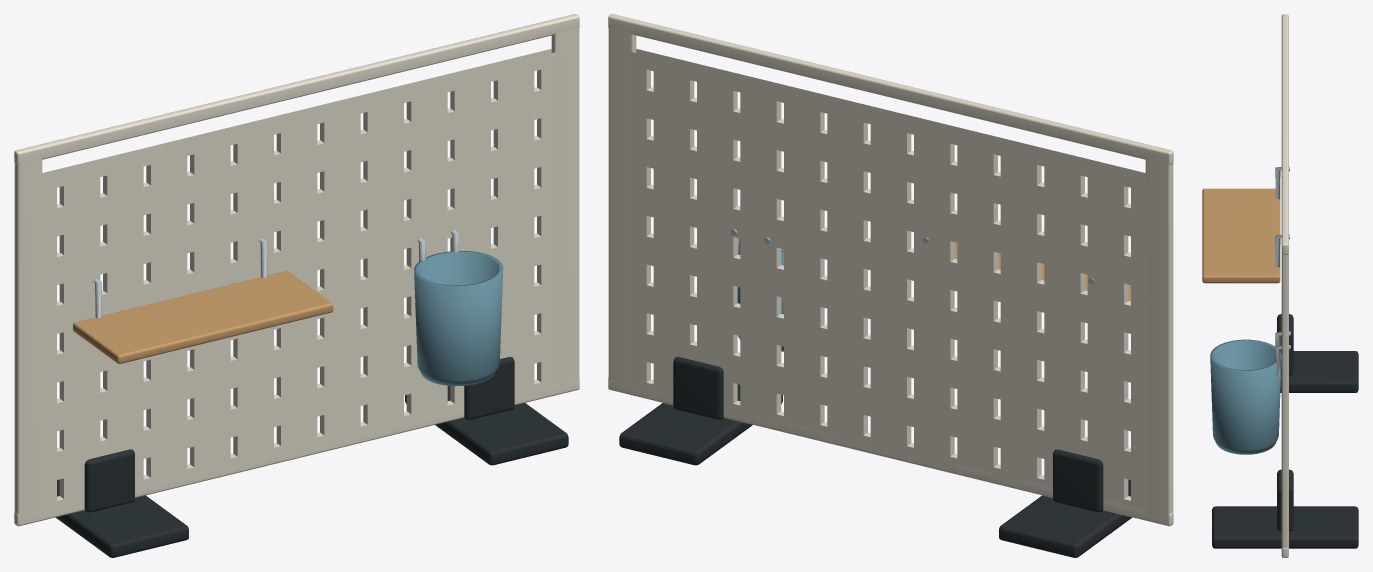
Rendered from desktop-pegboard.glb.
3 views of the same model, side by side, from view 1: azimuth 30°, elevation 25°; view 2: azimuth 150°, elevation 25°; view 3: azimuth 270°, elevation 25° (orthographic). The views are drawn at different scales.
Visible parts, largest first — view 1: desktop-pegboard authored assembly; view 2: desktop-pegboard authored assembly; view 3: desktop-pegboard authored assembly.
Boxes of the visible parts, x1,y1,x2,y2 form: desktop-pegboard authored assembly: [14, 14, 579, 557]; desktop-pegboard authored assembly: [608, 14, 1173, 557]; desktop-pegboard authored assembly: [1202, 14, 1358, 557].
Size of the model in its own units: 0.56 by 0.37 by 0.16.
